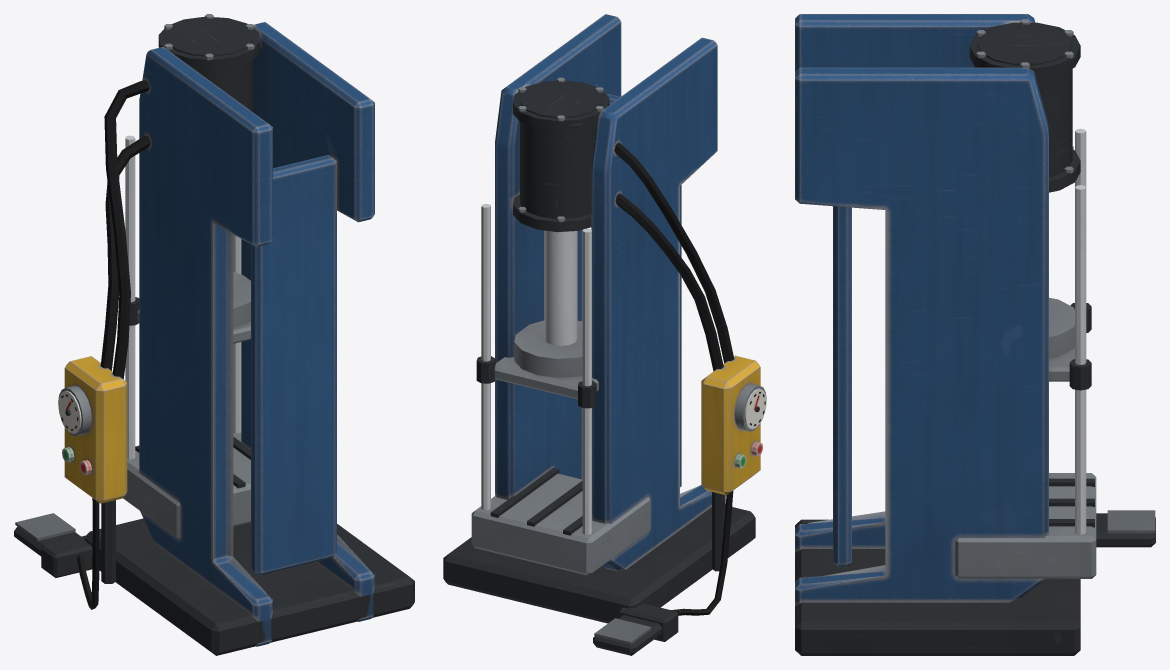
Rendered from prensa_hidraulica.fbx.
3 views of the same model, side by side, from view 1: azimuth 30°, elevation 25°; view 2: azimuth 150°, elevation 25°; view 3: azimuth 270°, elevation 25° (orthographic). The views are drawn at different scales.
Parts seen in each view (by area): view 1: prensa_hidraulica, prensa_hidraulica_pedal, prensa_hidraulica_piston; view 2: prensa_hidraulica, prensa_hidraulica_piston, prensa_hidraulica_pedal; view 3: prensa_hidraulica, prensa_hidraulica_piston, prensa_hidraulica_pedal.
Part boxes in pixels (<box>): prensa_hidraulica: <box>41,14,414,655</box>; prensa_hidraulica_pedal: <box>14,513,80,556</box>; prensa_hidraulica_piston: <box>129,272,250,343</box>; prensa_hidraulica: <box>443,14,766,641</box>; prensa_hidraulica_piston: <box>476,230,598,408</box>; prensa_hidraulica_pedal: <box>593,615,662,655</box>; prensa_hidraulica: <box>795,14,1096,655</box>; prensa_hidraulica_piston: <box>1049,297,1091,390</box>; prensa_hidraulica_pedal: <box>1096,510,1155,547</box>.
Size of the model in its own units: 2.18 by 3.95 by 2.28.
Materials: 1 (1 with a texture image).
